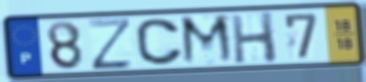7: (281, 11, 320, 61)
8: (45, 20, 85, 71)
C: (133, 17, 186, 67)
H: (228, 10, 280, 66)
M: (178, 13, 238, 68)
Z: (86, 15, 135, 72)
